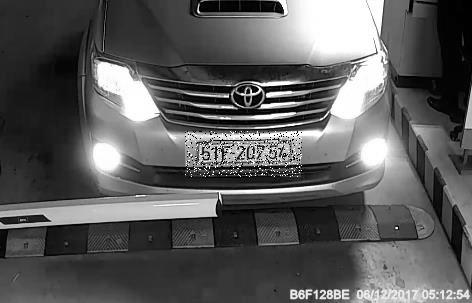License-plate: (187, 132, 304, 178)
